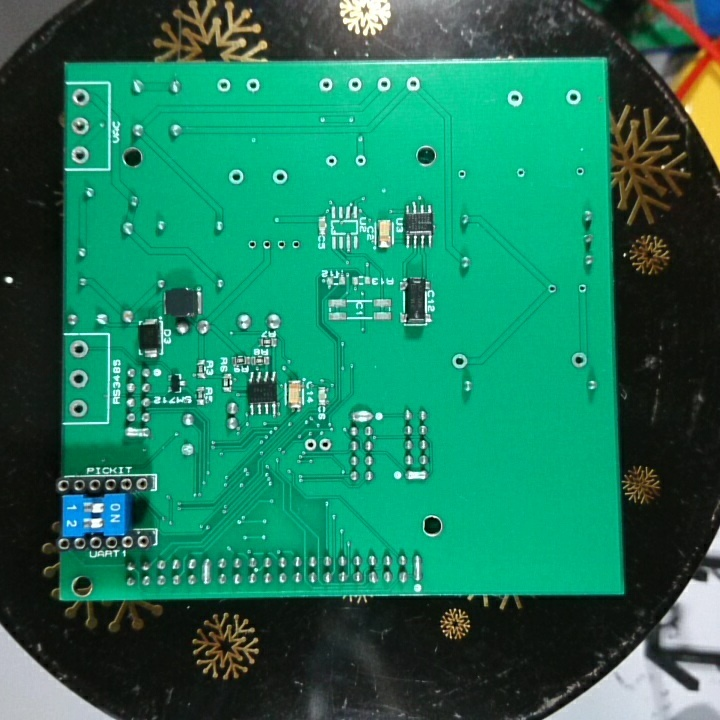F: (67, 335, 93, 362), (504, 86, 528, 113), (67, 395, 92, 420), (561, 83, 582, 112), (69, 114, 92, 139), (403, 72, 425, 97), (67, 368, 92, 390), (268, 167, 291, 190), (69, 142, 92, 165), (242, 75, 264, 99), (569, 349, 590, 374), (344, 75, 367, 97), (70, 86, 92, 109), (450, 349, 471, 372), (316, 75, 339, 96), (224, 168, 247, 187), (214, 76, 234, 97), (374, 75, 394, 96), (178, 441, 196, 463), (301, 436, 319, 457), (323, 152, 340, 172), (574, 278, 590, 298), (544, 279, 559, 299), (318, 435, 333, 455), (289, 236, 304, 254), (353, 152, 368, 169), (275, 236, 287, 255), (259, 237, 274, 252), (515, 164, 527, 182), (245, 238, 260, 252), (573, 163, 586, 178), (456, 167, 468, 183)
P: (199, 555, 215, 586), (404, 468, 430, 487), (410, 552, 425, 584), (123, 424, 153, 440), (348, 406, 374, 424)
